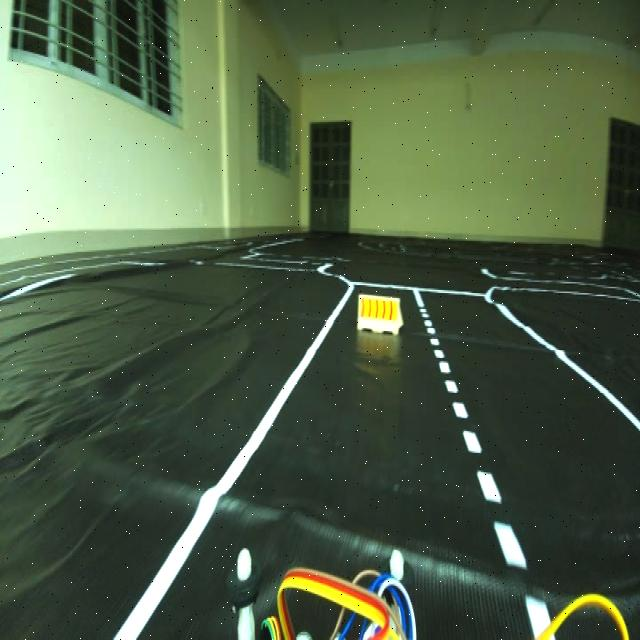roadblock: (354, 281, 410, 351)
